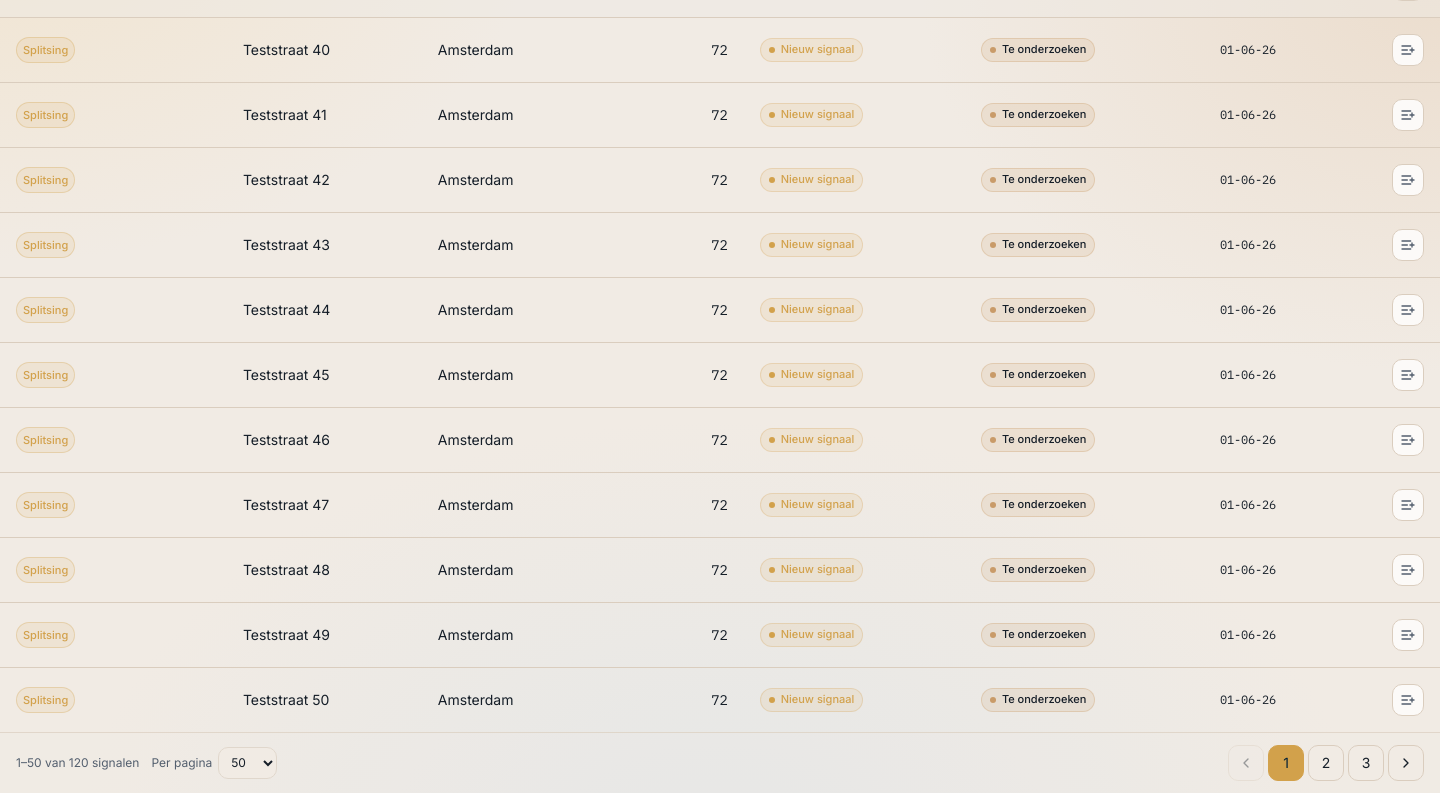
Scenario: SignalenTable — paginering › ondersteunt 100 signalen per pagina
This screenshot has width=1440, height=793.
(page scrolled)
Step 1. Select "100" in the dropdown named "Aantal signalen per pagina" → (248, 762), box left=218, top=746, right=277, bottom=778
(page scrolled)
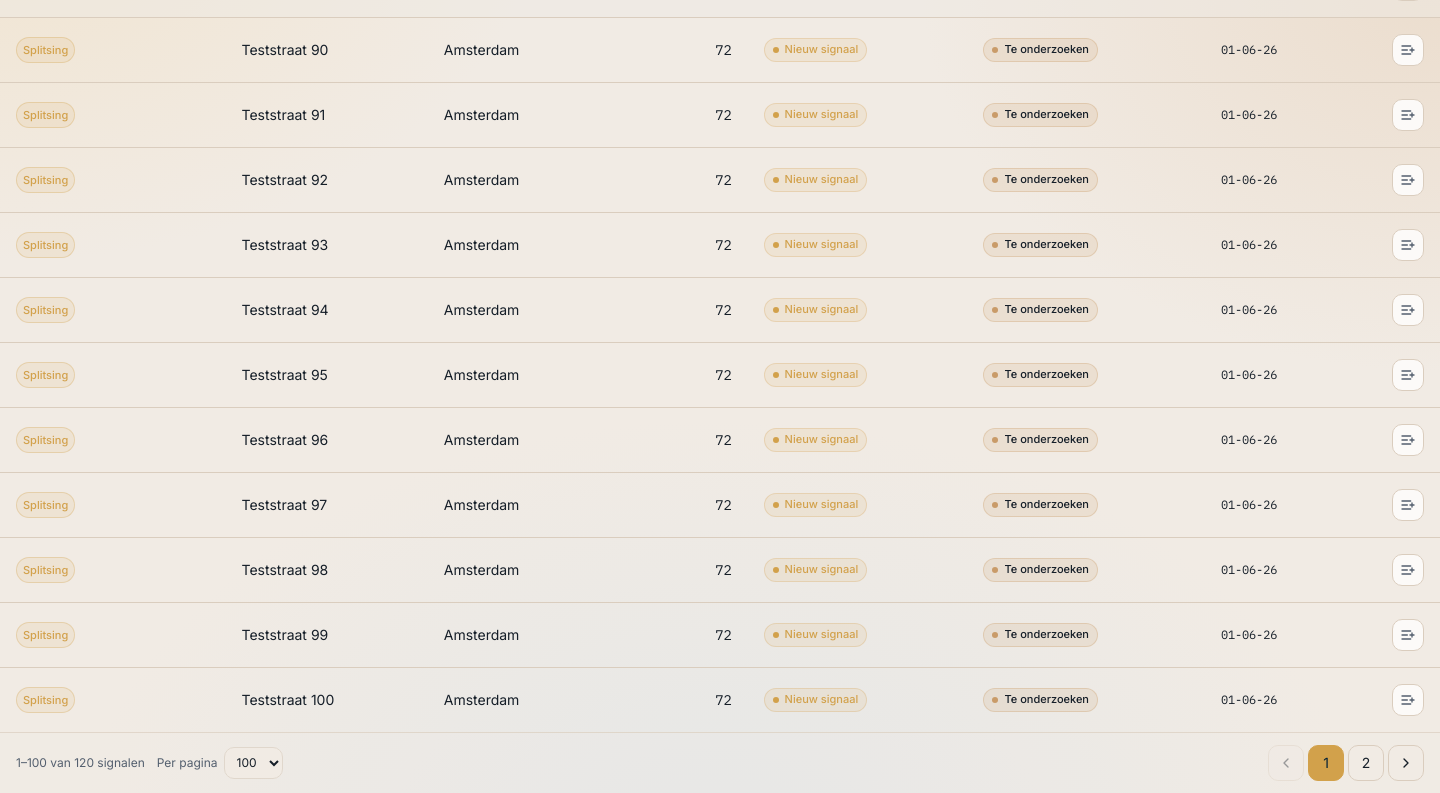
Now the row named "Signaal 100" is shown, box left=0, top=667, right=1439, bottom=732
